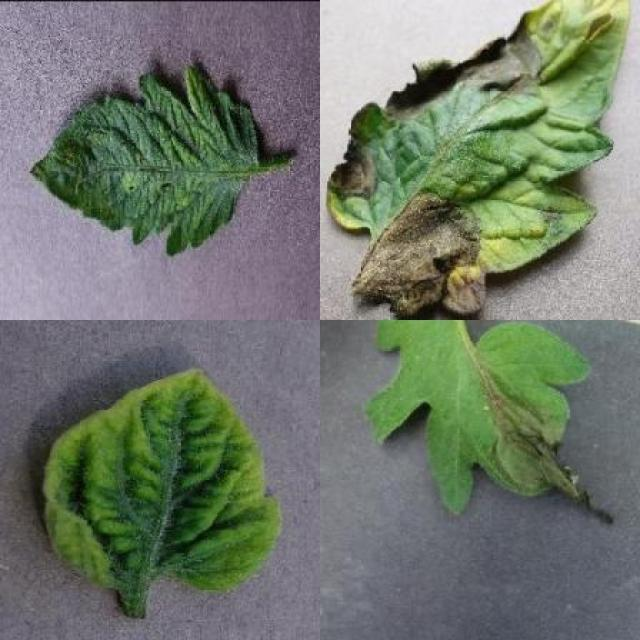Late Blight: (320, 0, 630, 320), (365, 320, 614, 526)
Mosaic Virus: (28, 61, 258, 256)
Yellow Leaf Curl Virus: (43, 364, 280, 594)
